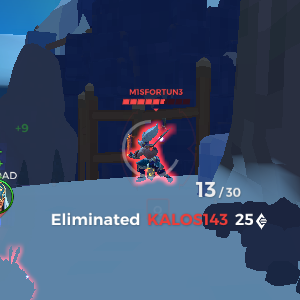model: (135, 120, 176, 196)
